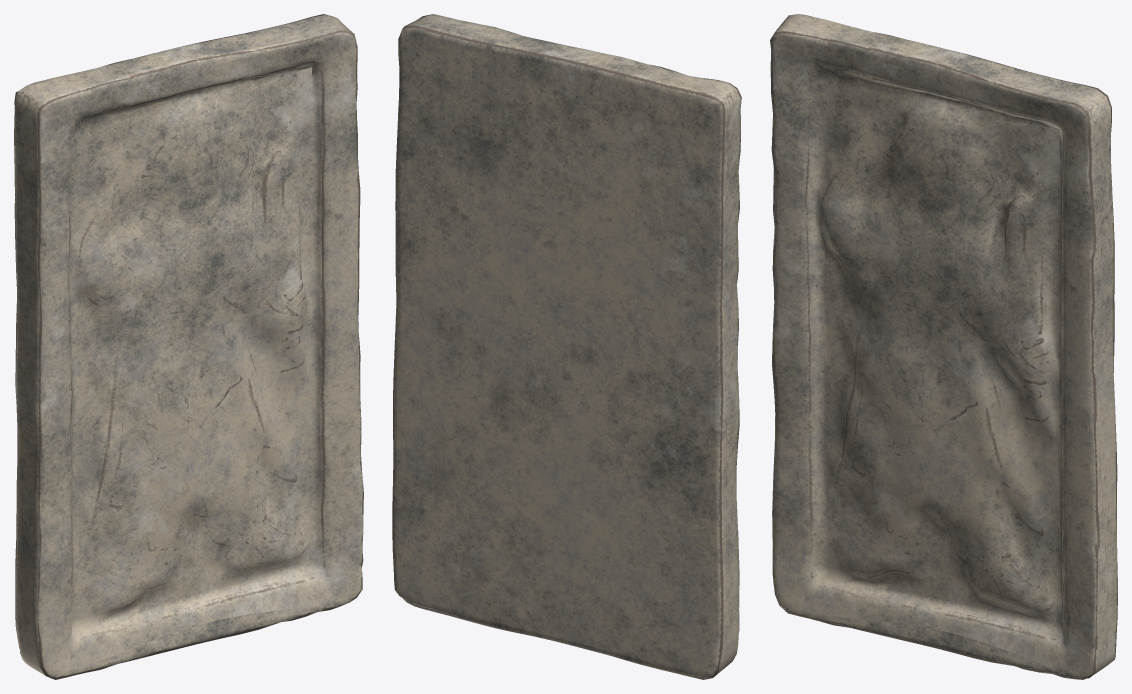
File: Mon_09_3D_01_Pub.glb
The picture shows the model from 3 angles, left to right: view 1: azimuth 30°, elevation 25°; view 2: azimuth 150°, elevation 25°; view 3: azimuth 330°, elevation 25°; orthographic projection.
Visible parts, largest first — view 1: RE0031; view 2: RE0031; view 3: RE0031.
Boxes of the visible parts, box(x1,y1,x2,y2) form: RE0031: box(14, 14, 363, 679); RE0031: box(392, 14, 741, 679); RE0031: box(770, 14, 1117, 679).
Bounding box in the file's own units: 0.9418 × 1.59 × 0.1081.
1 material, 1 textured.
